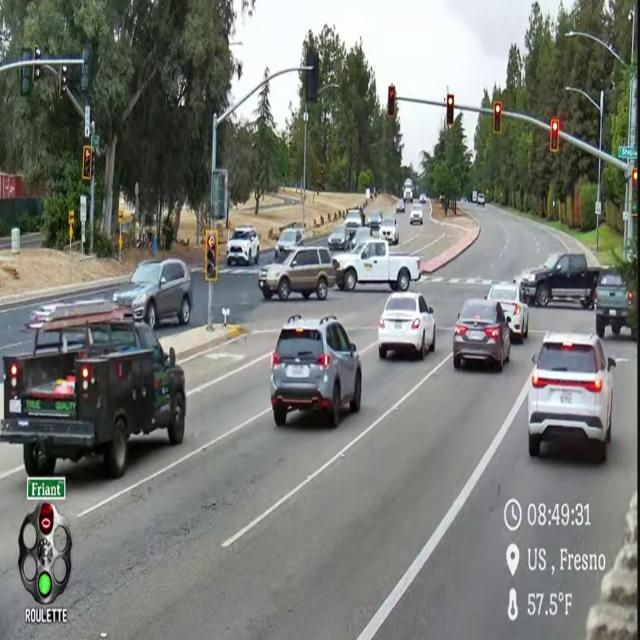car: (528, 332, 615, 462), (271, 315, 361, 427), (112, 258, 192, 328), (453, 299, 510, 371), (259, 247, 335, 301), (378, 292, 435, 359), (486, 280, 528, 343), (227, 226, 259, 265), (275, 228, 303, 261), (328, 224, 350, 251), (345, 208, 364, 238), (379, 217, 399, 245), (351, 227, 373, 247), (367, 211, 383, 230), (410, 205, 423, 224), (476, 193, 486, 207), (396, 200, 405, 213), (419, 193, 426, 204)
traffic signal: (204, 230, 218, 281), (306, 49, 319, 103), (39, 504, 54, 535), (81, 45, 91, 91), (82, 145, 93, 181), (20, 66, 32, 96), (58, 65, 68, 99), (387, 85, 396, 119), (632, 167, 638, 218), (493, 101, 502, 135), (550, 119, 559, 152), (446, 94, 454, 126), (632, 167, 638, 190), (33, 65, 40, 82)
truck: (0, 301, 185, 478), (519, 253, 602, 309), (333, 240, 420, 291), (595, 269, 636, 339), (345, 208, 365, 239), (403, 179, 413, 202), (472, 191, 477, 203)
